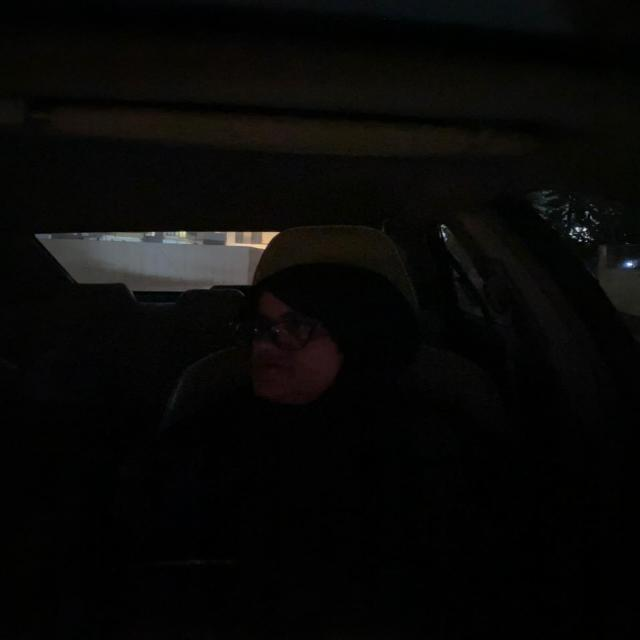LeftRight: (229, 258, 421, 424)
